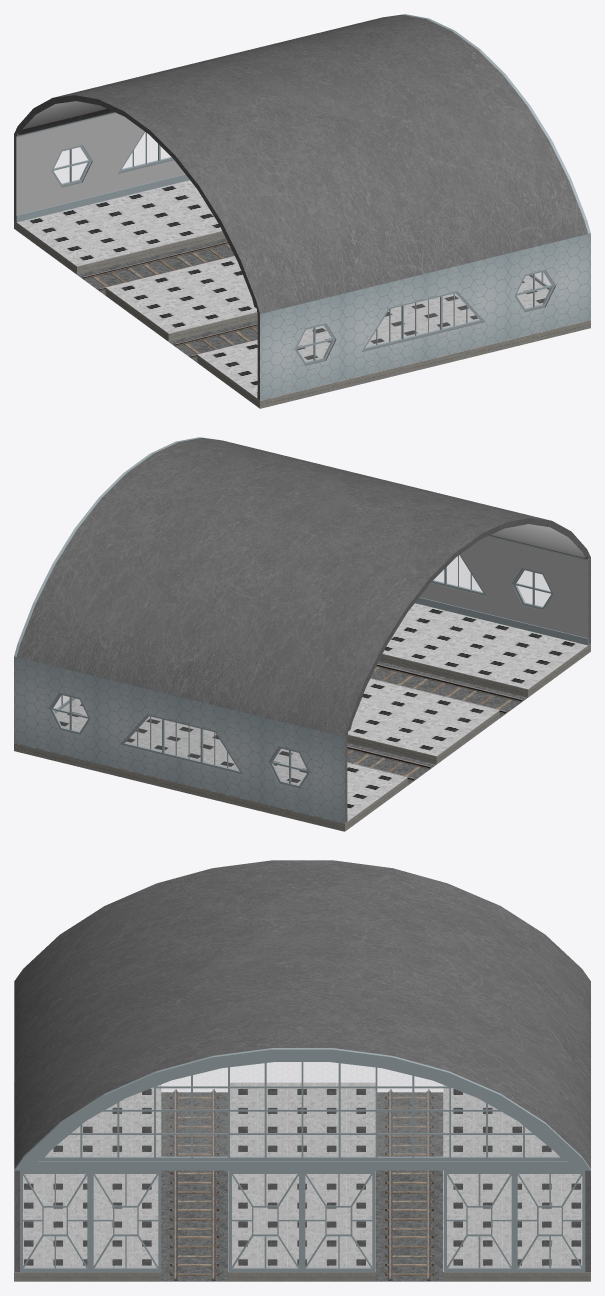
Rendered from Station02_A01.FBX.
The picture shows the model from 3 angles, top to bottom: view 1: azimuth 30°, elevation 25°; view 2: azimuth 150°, elevation 25°; view 3: azimuth 270°, elevation 25°; orthographic projection. The views are drawn at different scales.
Parts seen in each view (by area): view 1: Station02Roof01Light, Station02Wall01, Station02Floor, Station02Window01, Station02FloorRailway, Station02Window01Mtl, Station02Railway, Station02WallPanel, Station02ArcMetall; view 2: Station02Roof01Light, Station02Wall01, Station02Floor, Station02Window01, Station02Window01Mtl, Station02FloorRailway, Station02Railway, Station02WallPanel, Station02ArcMetall; view 3: Station02Roof01Light, Station02Floor, Station02ArcWindow, Station02Window02, Station02FloorRailway, Station02ArcMetall, Station02Window02_, Station02Arc, Station02Window02Mtl, Station02Railway, Station02Window02Mtl_, Station02Window03 (+2 smaller).
Boxes of the visible parts, x1,y1,x2,y2 form: Station02Roof01Light: [14, 15, 587, 313]; Station02Wall01: [14, 113, 590, 400]; Station02Floor: [14, 180, 590, 408]; Station02Window01: [54, 132, 550, 361]; Station02FloorRailway: [77, 238, 257, 362]; Station02Window01Mtl: [51, 131, 554, 365]; Station02Railway: [82, 241, 257, 358]; Station02WallPanel: [16, 112, 257, 398]; Station02ArcMetall: [382, 14, 590, 233]; Station02Roof01Light: [17, 438, 590, 736]; Station02Wall01: [14, 536, 590, 823]; Station02Floor: [14, 603, 590, 831]; Station02Window01: [53, 555, 550, 784]; Station02Window01Mtl: [49, 554, 553, 788]; Station02FloorRailway: [347, 661, 527, 785]; Station02Railway: [347, 664, 522, 780]; Station02WallPanel: [347, 535, 588, 821]; Station02ArcMetall: [14, 437, 222, 656]; Station02Roof01Light: [14, 860, 590, 1168]; Station02Floor: [14, 1082, 590, 1281]; Station02ArcWindow: [46, 1062, 559, 1156]; Station02Window02: [23, 1174, 581, 1267]; Station02FloorRailway: [161, 1092, 443, 1281]; Station02ArcMetall: [14, 1048, 590, 1170]; Station02Window02_: [232, 1174, 371, 1267]; Station02Arc: [38, 1058, 567, 1160]; Station02Window02Mtl: [20, 1170, 585, 1271]; Station02Railway: [170, 1089, 433, 1280]; Station02Window02Mtl_: [228, 1170, 375, 1271]; Station02Window03: [44, 1208, 561, 1233].
Size of the model in its own units: 36504 by 20867 by 47028.
